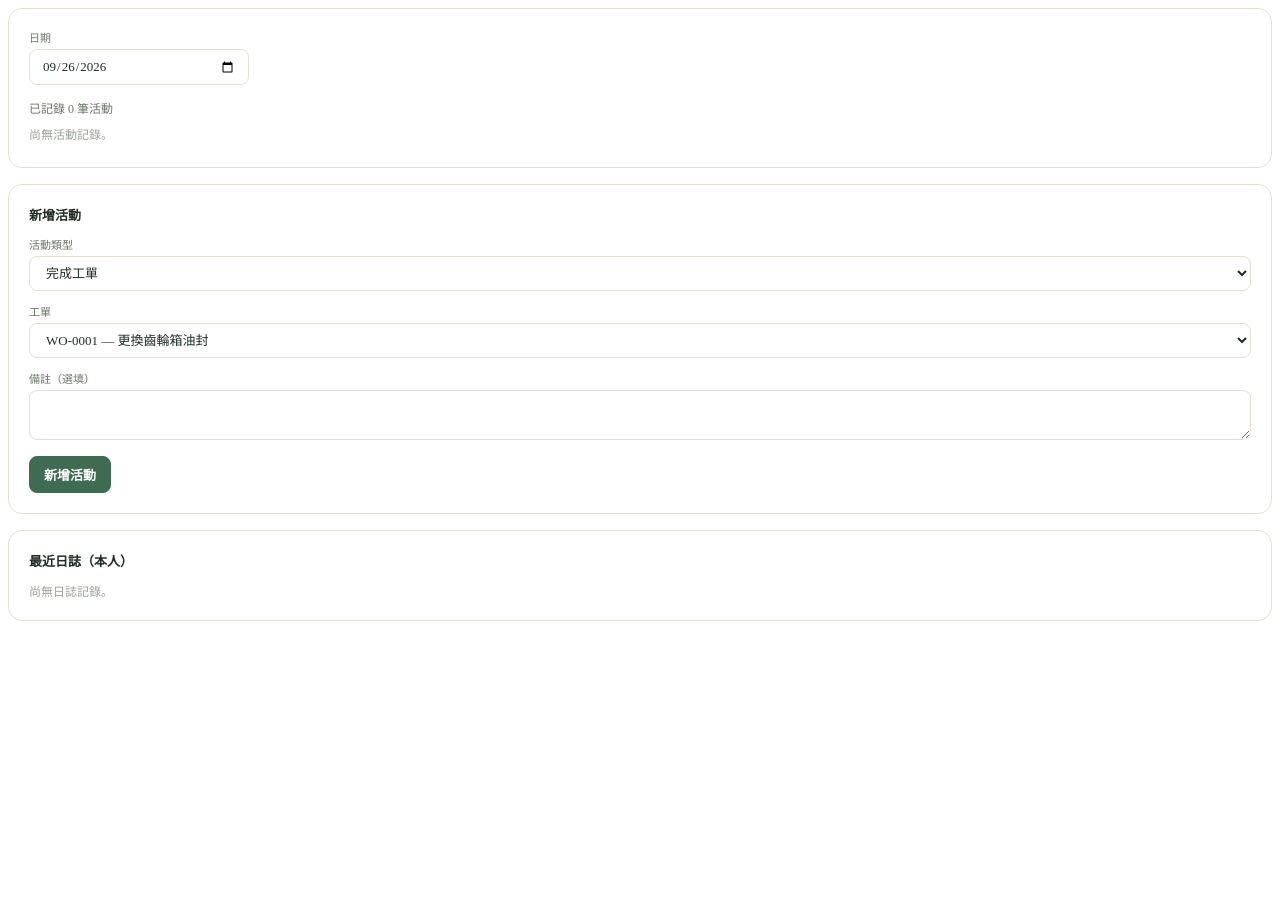
Test: DayWorkFormPanel 新增活動表單 — kind 切換與 canSubmit gating › 切到 inspection_item：顯示 item_id + result 欄位，未填齊 disabled
Select "完成定檢項" in the dropdown labelled "活動類型": point(640, 274) [29,256,1251,291]
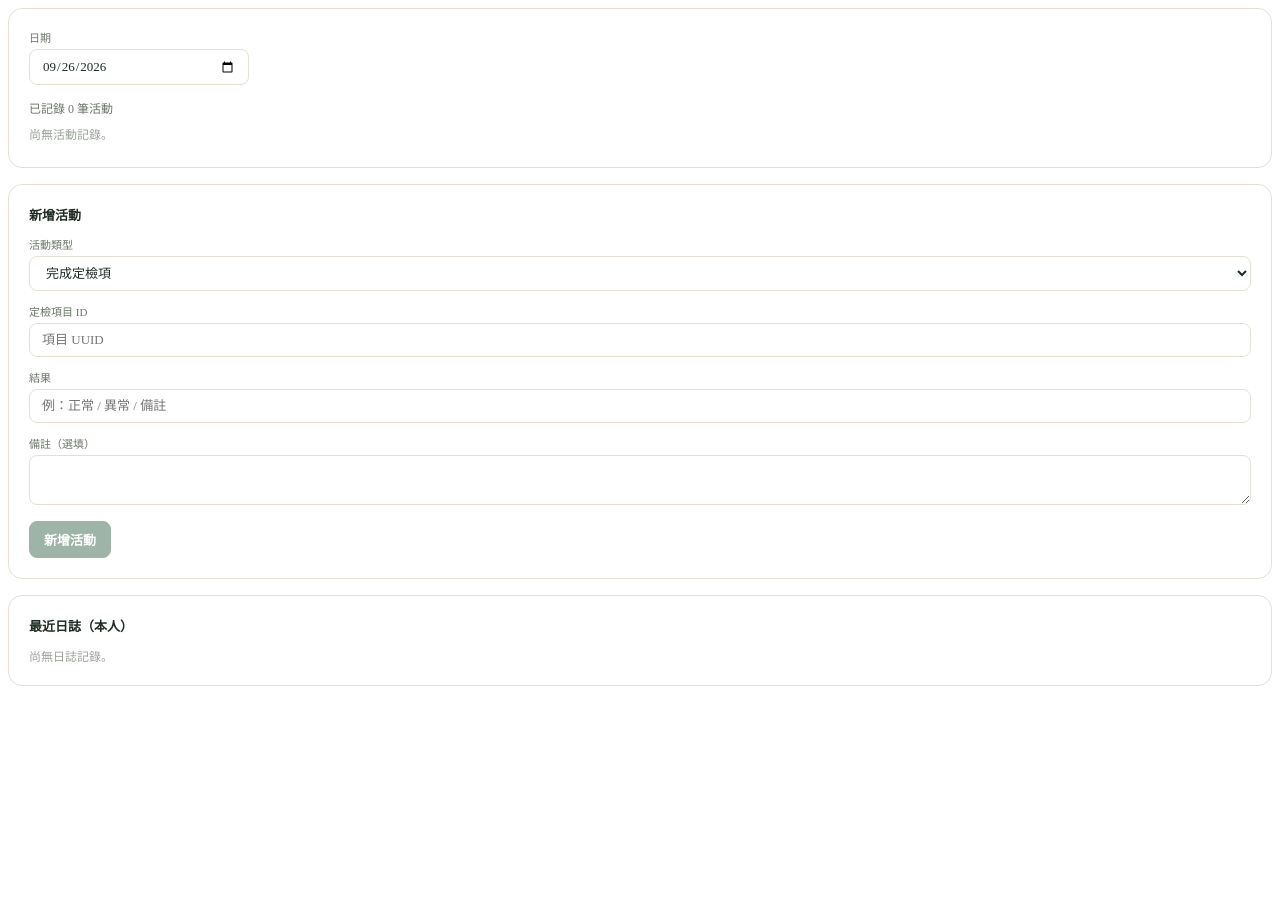
Check: the button "新增活動" is disabled, box [29,521,111,558]
In the field labelled "定檢項目 ID": point(640, 340) [29,323,1251,357], type "a1b2c3d4-e5f6-4789-a012-3456789abcde"
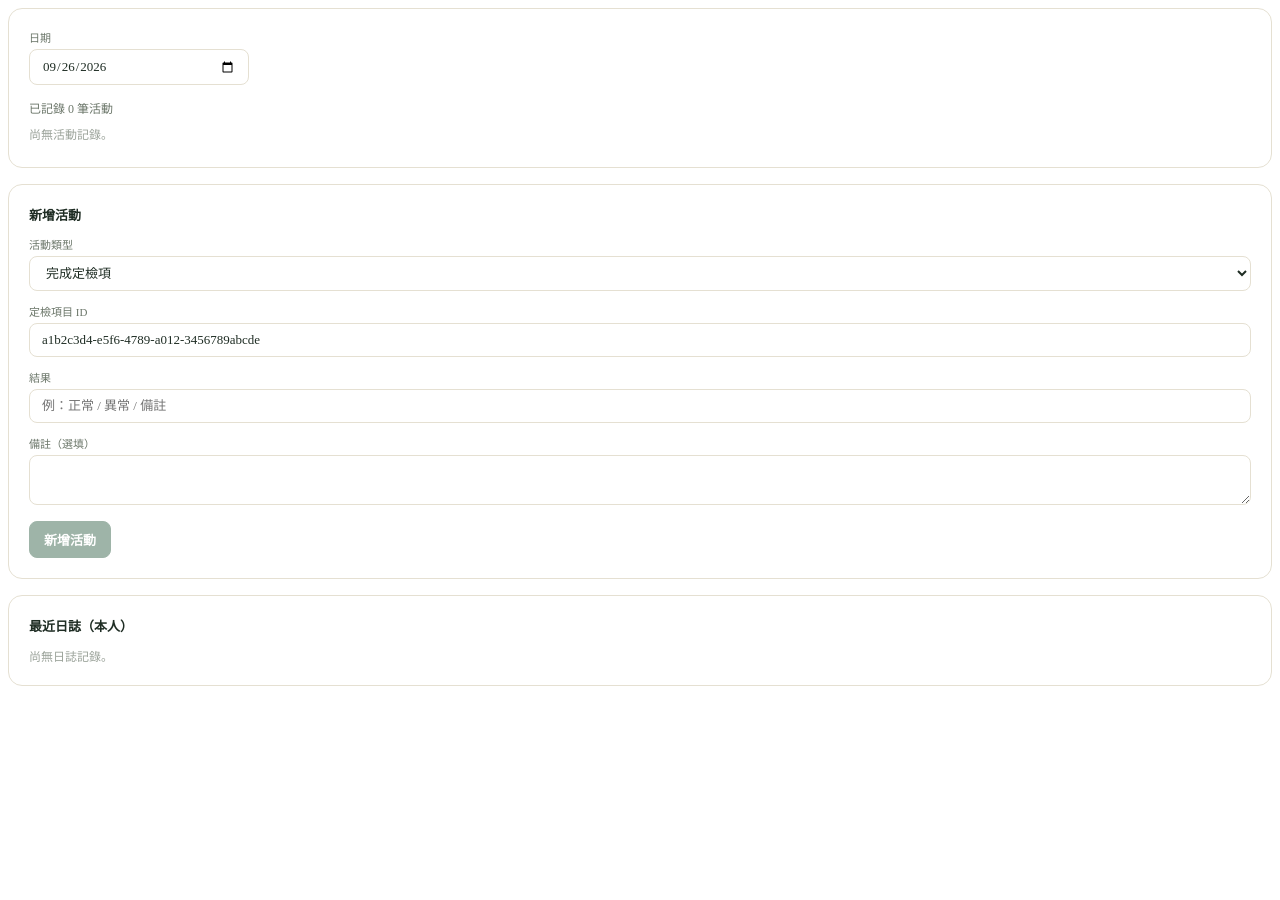
Check: the button "新增活動" is disabled, box [29,521,111,558]
In the field labelled "結果": point(640, 406) [29,389,1251,423], type "正常"
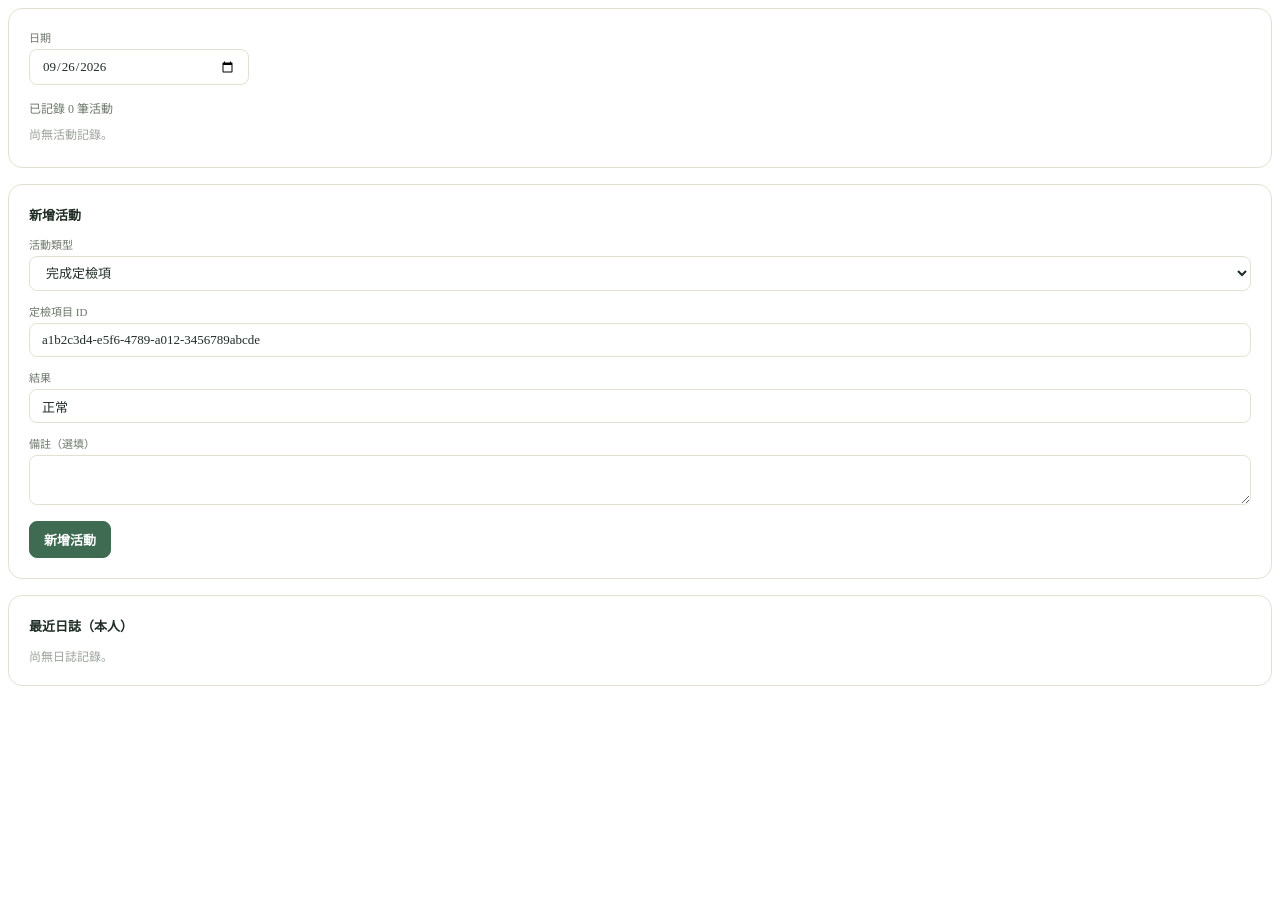
Check: the button "新增活動" is enabled, box [29,521,111,558]
